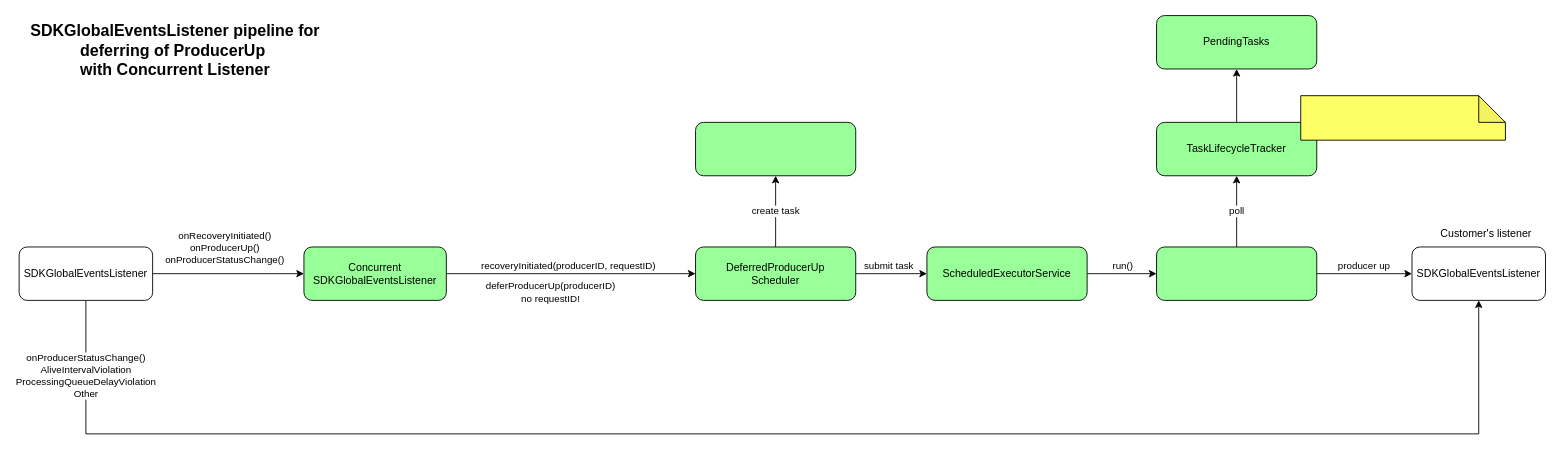
This 1561x457 diagram has some shape labels left out. The shapes that lost their labels are listed below. From the top down, each one's box as (x1, y1, x2, y2) in pixels, then its label:
(1300, 95, 1505, 140): Shared with ConcurrentOddsFeedListener
(695, 121, 856, 176): DeferredProducerUp TaskFactory
(1156, 246, 1317, 300): DeferredProducerUp Task
